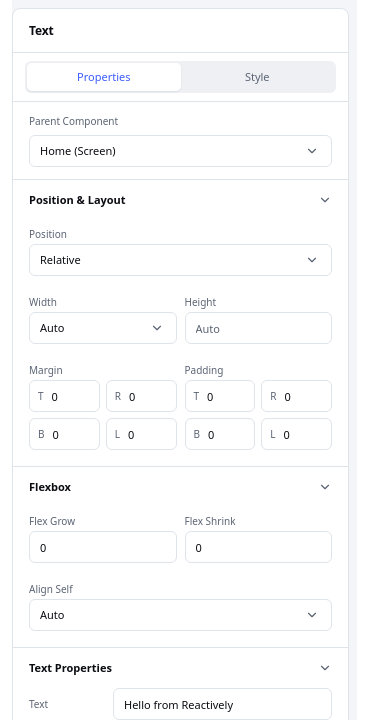
Test: editor inspector › lists only valid same-screen parents with deterministic View labels
Click the dropdown named "Parent Component": (78, 150) [29,135,332,167]
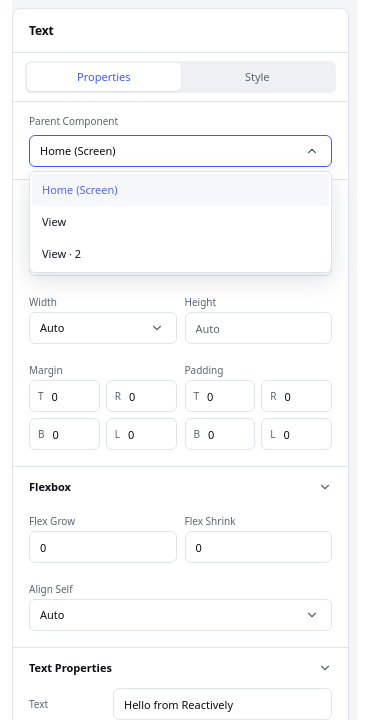
Check: the option "Home (Screen)" is shown, box [32,174,329,206]
Check: the option "View" is shown, box [42,214,66,229]
Check: the option "View · 2" is shown, box [42,246,81,261]
